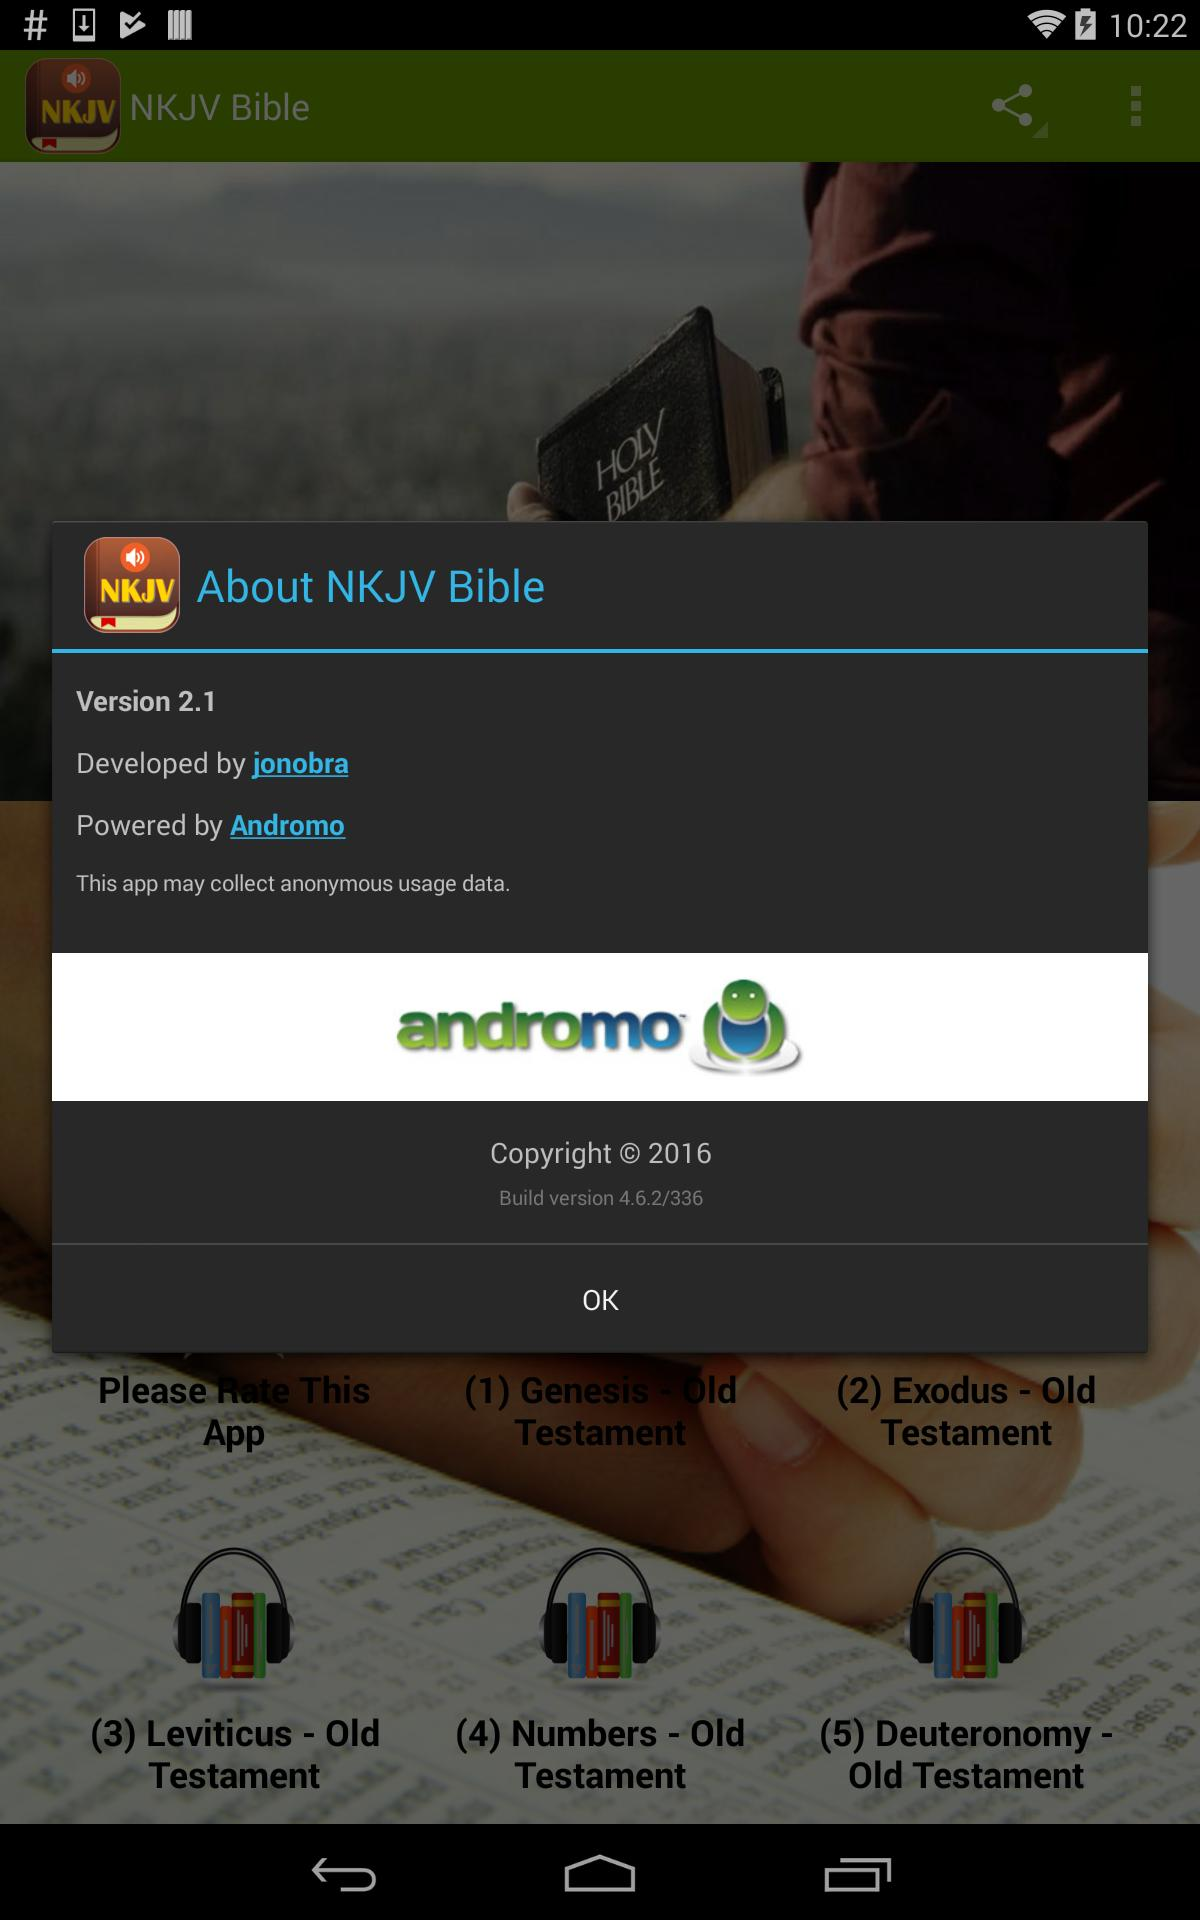android.view.View: (53, 650, 1147, 652)
android.widget.Button: (53, 1245, 1147, 1353)
android.widget.FrameLayout: (19, 505, 1181, 1368), (36, 652, 1164, 1243), (53, 652, 1147, 1243)
android.widget.ImageView: (393, 977, 806, 1077), (84, 536, 196, 633)
android.widget.LinearLayout: (36, 505, 1164, 1368), (53, 657, 1147, 1243), (36, 505, 1164, 652), (36, 1243, 1164, 1368), (84, 521, 1116, 650), (53, 1245, 1147, 1353)
android.widget.RelativeLayout: (53, 952, 1147, 1102)
android.widget.ScrollView: (53, 652, 1147, 1243)
android.widget.TextView: (53, 657, 1147, 744), (53, 804, 1147, 867), (53, 744, 1147, 804), (53, 867, 1147, 921), (196, 556, 1116, 614), (53, 1133, 1147, 1171), (53, 1183, 1147, 1211)
